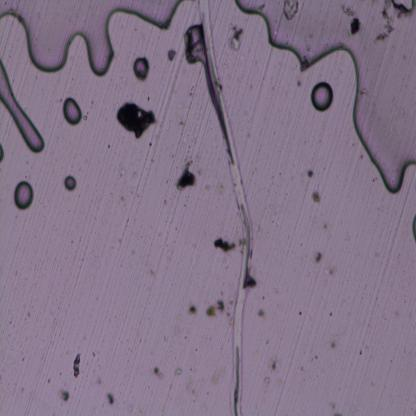Air bubble: (235, 0, 416, 194), (0, 0, 182, 79), (181, 21, 206, 68), (310, 79, 334, 112), (62, 94, 83, 126), (12, 180, 34, 210), (131, 56, 150, 80), (410, 215, 416, 244), (0, 144, 7, 166)
Background material: (116, 98, 160, 140), (375, 1, 398, 45), (339, 2, 364, 38), (175, 158, 199, 192), (228, 24, 248, 52), (204, 299, 226, 318), (282, 2, 301, 23), (212, 236, 236, 252), (266, 354, 284, 374), (70, 352, 82, 378), (245, 274, 258, 290), (106, 389, 116, 408), (314, 251, 326, 266), (58, 388, 70, 403), (152, 365, 164, 379), (257, 306, 267, 320), (312, 190, 322, 202), (167, 48, 176, 60), (188, 305, 198, 315), (308, 168, 314, 180)
Diatom: (0, 61, 44, 152), (64, 176, 78, 191)
Microfibre: (199, 0, 253, 414)
